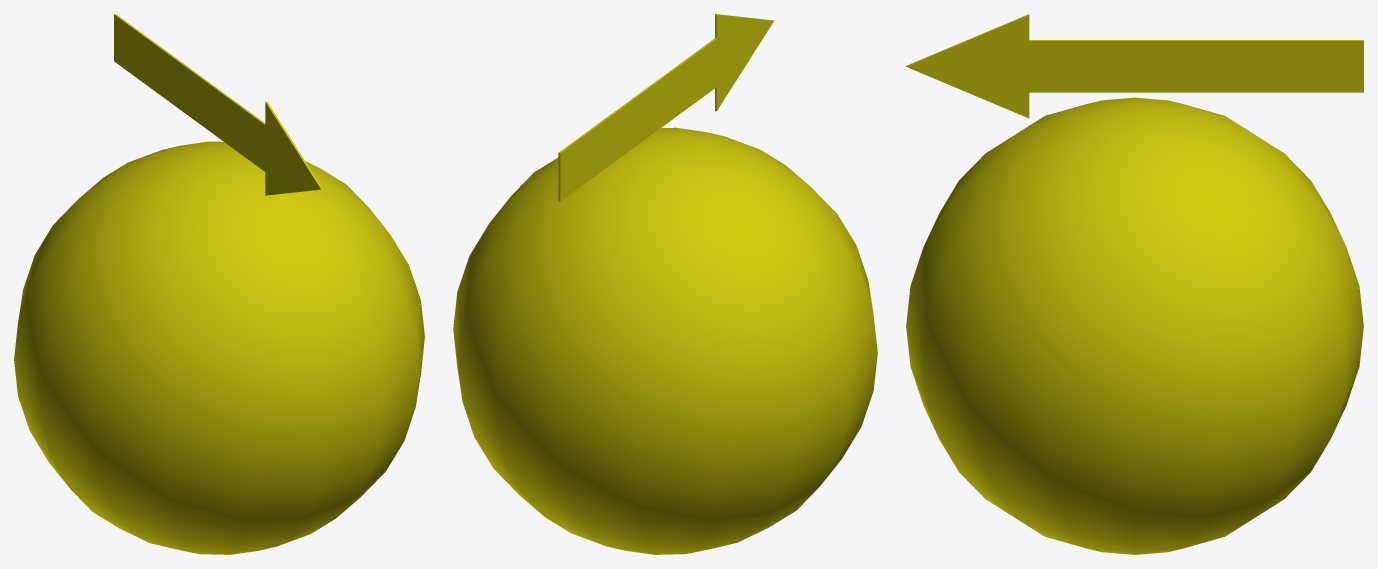
Rendered from Respawn_Marker.fbx.
3 renders of one model, left to right at view 1: azimuth 30°, elevation 25°; view 2: azimuth 150°, elevation 25°; view 3: azimuth 270°, elevation 25°, orthographic. The views are drawn at different scales.
Parts seen in each view (by area): view 1: Respawn_Marker; view 2: Respawn_Marker; view 3: Respawn_Marker.
Part boxes in pixels (<box>): Respawn_Marker: <box>14,14,424,554</box>; Respawn_Marker: <box>453,14,877,554</box>; Respawn_Marker: <box>906,14,1363,554</box>.
Size of the model in its own units: 200 by 200 by 250.
